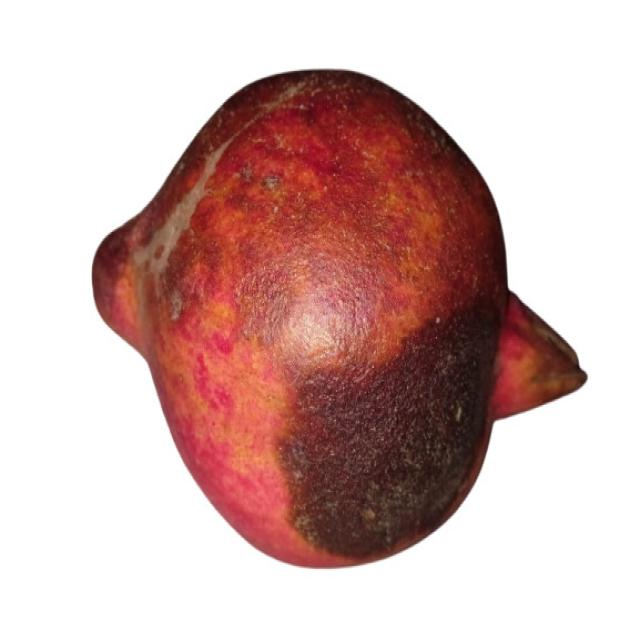Rotten: (86, 66, 591, 572)
